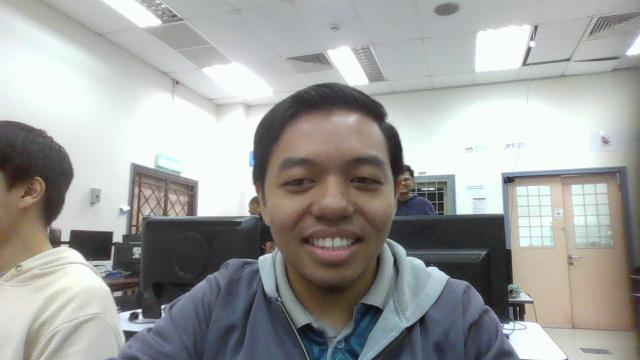senang: (271, 120, 393, 283)
